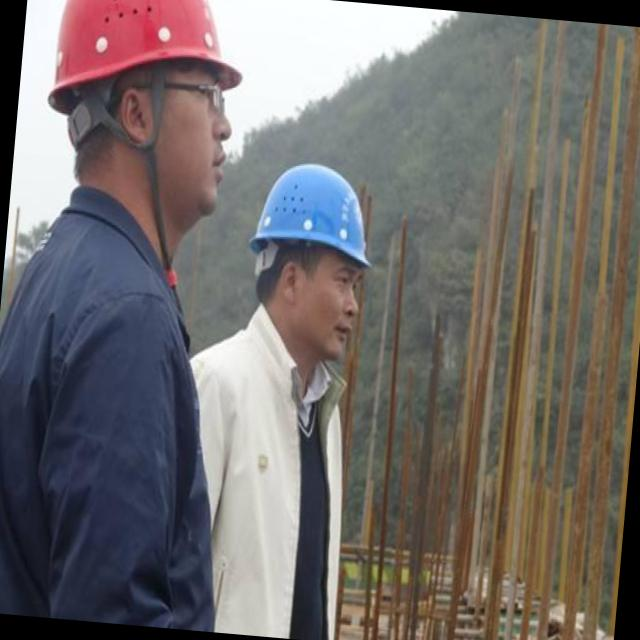helmet: (27, 0, 251, 127), (250, 157, 374, 268)
no-goggles: (156, 70, 232, 114), (292, 260, 363, 300)
no-vest: (0, 156, 235, 621), (188, 315, 361, 640)
